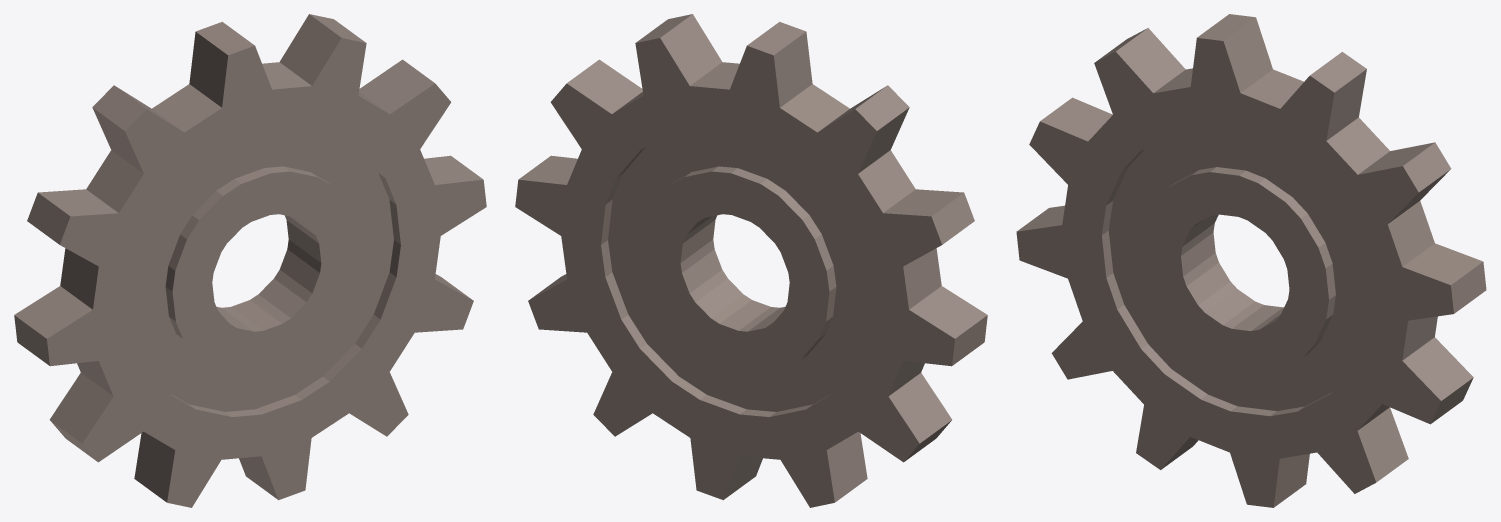
File: puzzle_gear2.fbx
3 renders of one model, left to right at view 1: azimuth 30°, elevation 25°; view 2: azimuth 150°, elevation 25°; view 3: azimuth 330°, elevation 25°, orthographic.
Parts seen in each view (by area): view 1: Cylinder.025; view 2: Cylinder.025; view 3: Cylinder.025.
Part boxes in pixels (left/top/right/bottom): Cylinder.025: left=14, top=14, right=486, bottom=507; Cylinder.025: left=515, top=14, right=987, bottom=507; Cylinder.025: left=1016, top=14, right=1486, bottom=507.
Size of the model in its own units: 183 by 183 by 23.51.
